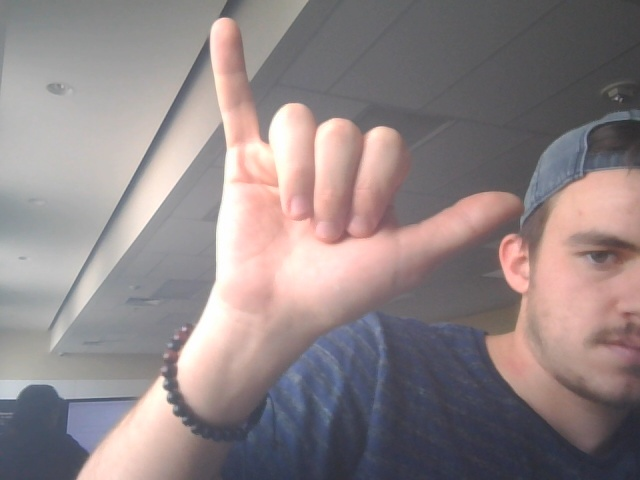birdsup: (188, 15, 530, 339)
